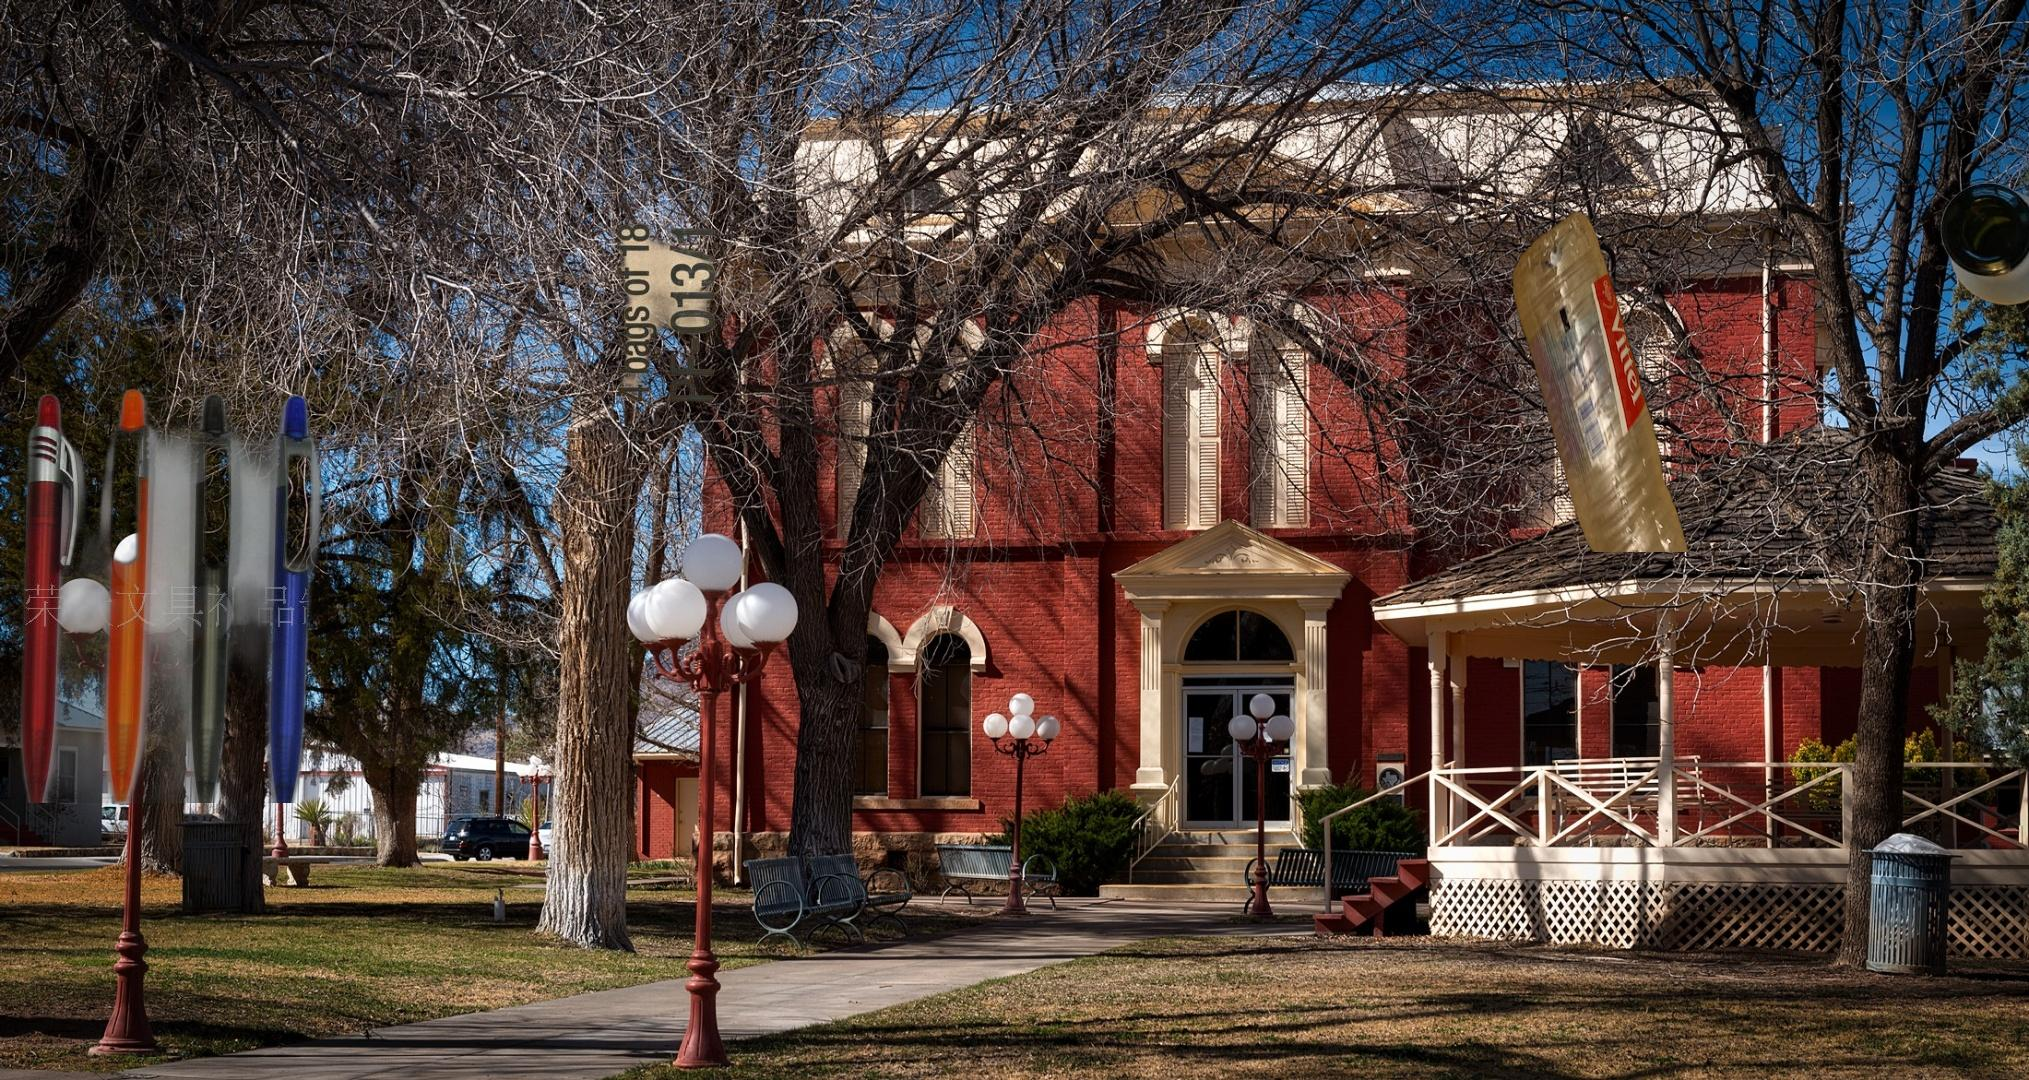glass: (1936, 180, 2029, 309)
penholder: (13, 380, 399, 804)
plastic-bottles: (1508, 207, 1692, 551)
trashbox-cardboard: (612, 220, 721, 405)
